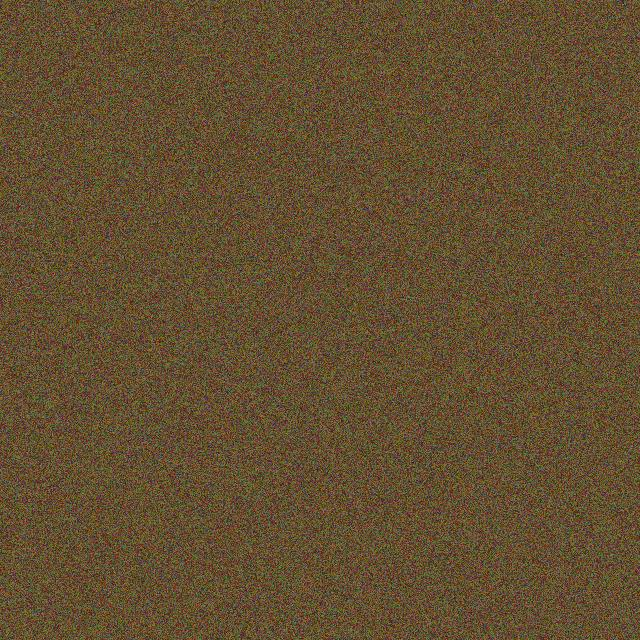metal_debris: (464, 270, 521, 388)
